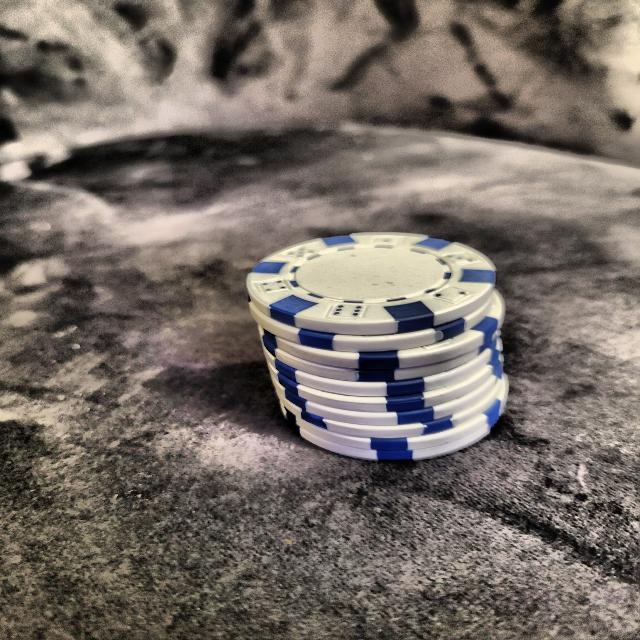Chip: (228, 211, 529, 465)
